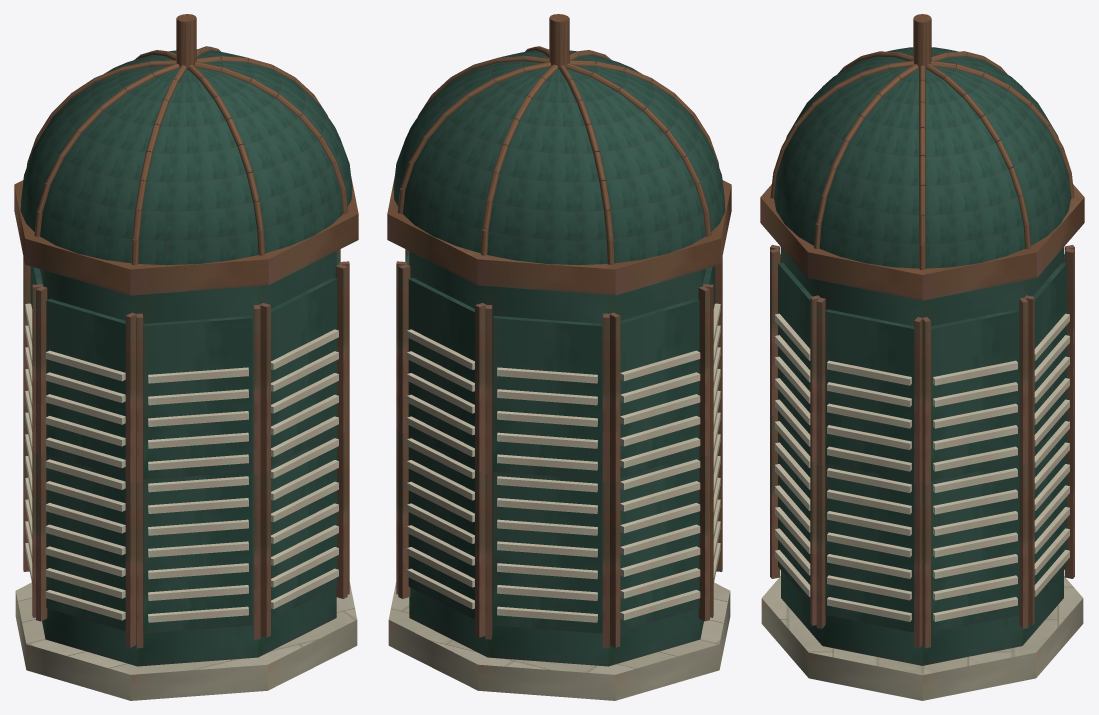
File: city-kiosk-lod.glb
The picture shows the model from 3 angles, left to right: view 1: azimuth 30°, elevation 25°; view 2: azimuth 150°, elevation 25°; view 3: azimuth 270°, elevation 25°; orthographic projection.
Visible parts, largest first — view 1: city-kiosk.001; view 2: city-kiosk.001; view 3: city-kiosk.001.
Part boxes in pixels (box(x1,y1,x2,y2)): city-kiosk.001: box(14, 14, 358, 700); city-kiosk.001: box(387, 14, 731, 700); city-kiosk.001: box(760, 14, 1084, 700).
Bounding box in the file's own units: 2.6 × 4.72 × 2.29.
Materials: 1 (1 with a texture image).
